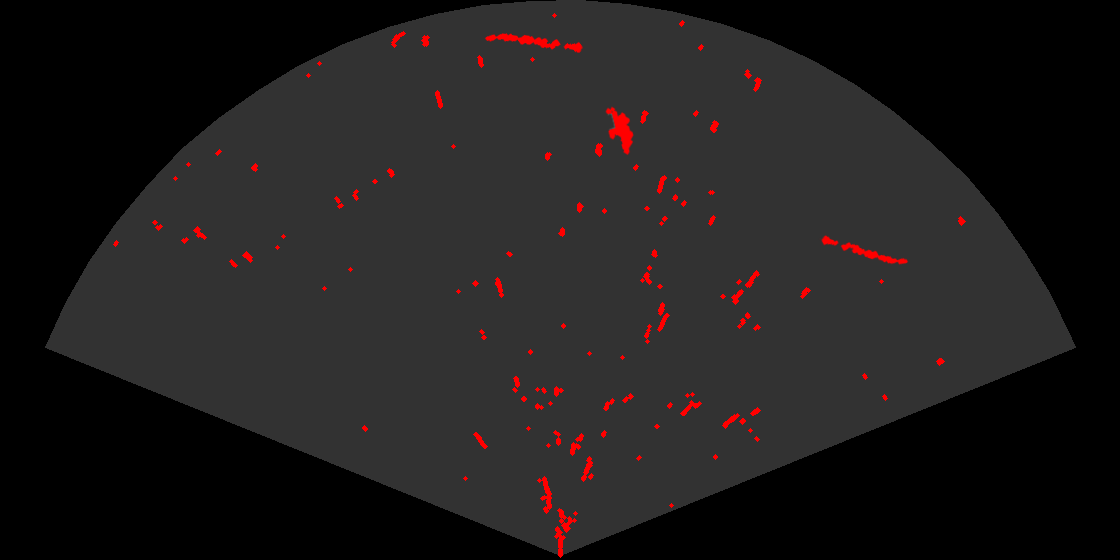AUV: (604, 105, 635, 157)
chain: (818, 234, 910, 266), (483, 32, 585, 54)
